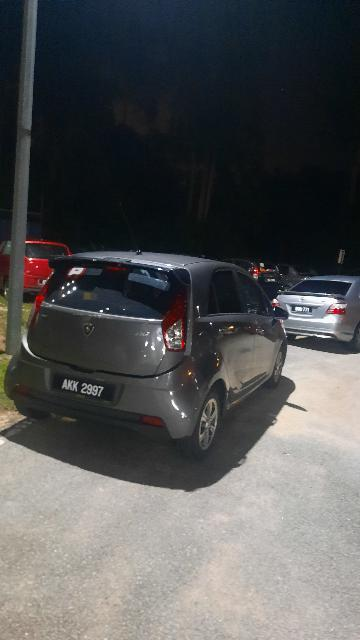License_Plate: (51, 374, 120, 407)
car: (6, 249, 292, 459), (270, 269, 360, 352)
